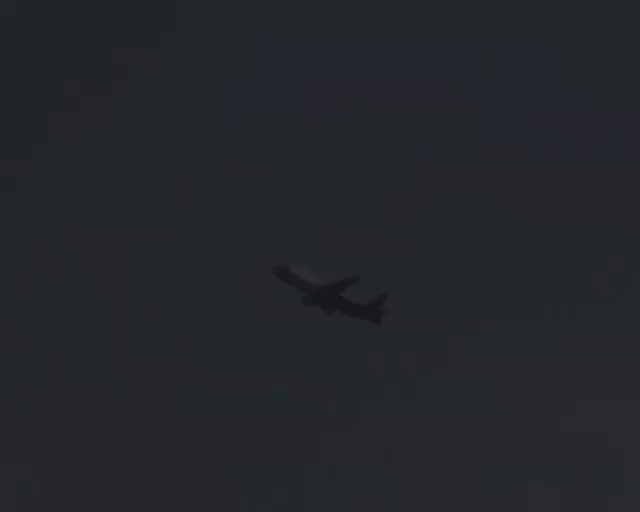AIRPLANE: (339, 275, 390, 327)
